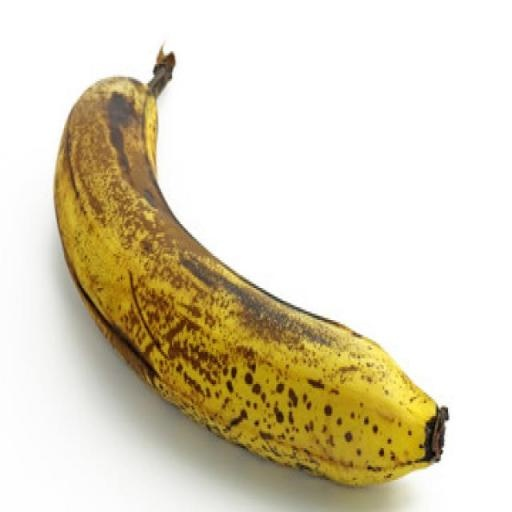fruit: (54, 52, 446, 485)
